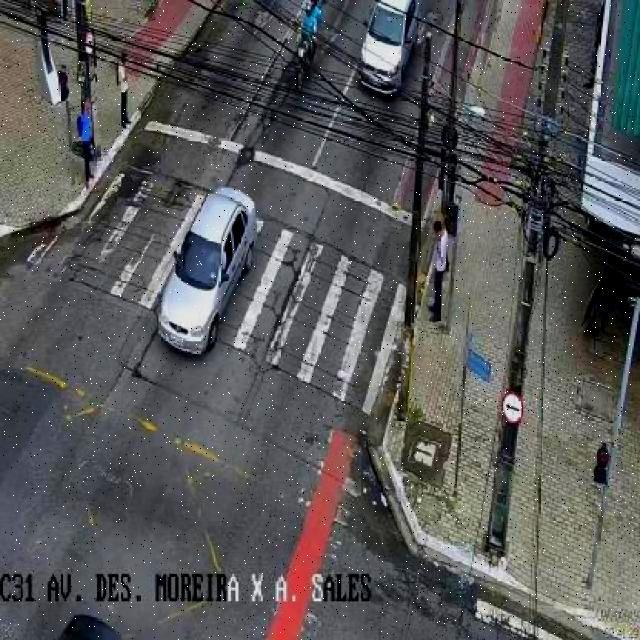Car: (155, 188, 261, 354), (354, 0, 426, 98)
Cycle: (288, 0, 324, 101)
